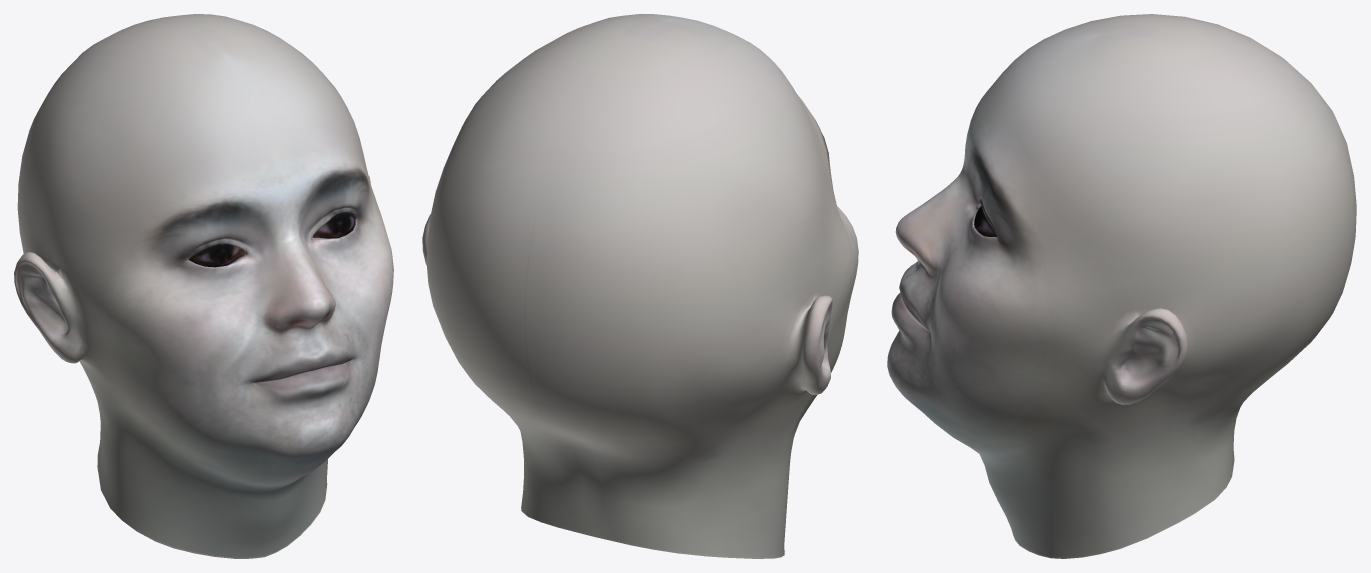
3 views of the same model, side by side, from view 1: azimuth 30°, elevation 25°; view 2: azimuth 150°, elevation 25°; view 3: azimuth 270°, elevation 25° (orthographic). The views are drawn at different scales.
Visible parts, largest first — view 1: skin_hi, eyeR_hi, eyeL_hi; view 2: skin_hi; view 3: skin_hi.
Boxes of the visible parts, box(x1,y1,x2,y2) form: skin_hi: box(14, 14, 393, 558); eyeR_hi: box(189, 244, 244, 267); eyeL_hi: box(313, 212, 355, 238); skin_hi: box(422, 14, 858, 558); skin_hi: box(887, 14, 1356, 558).
Bounding box in the file's own units: 214 × 282 × 237.
